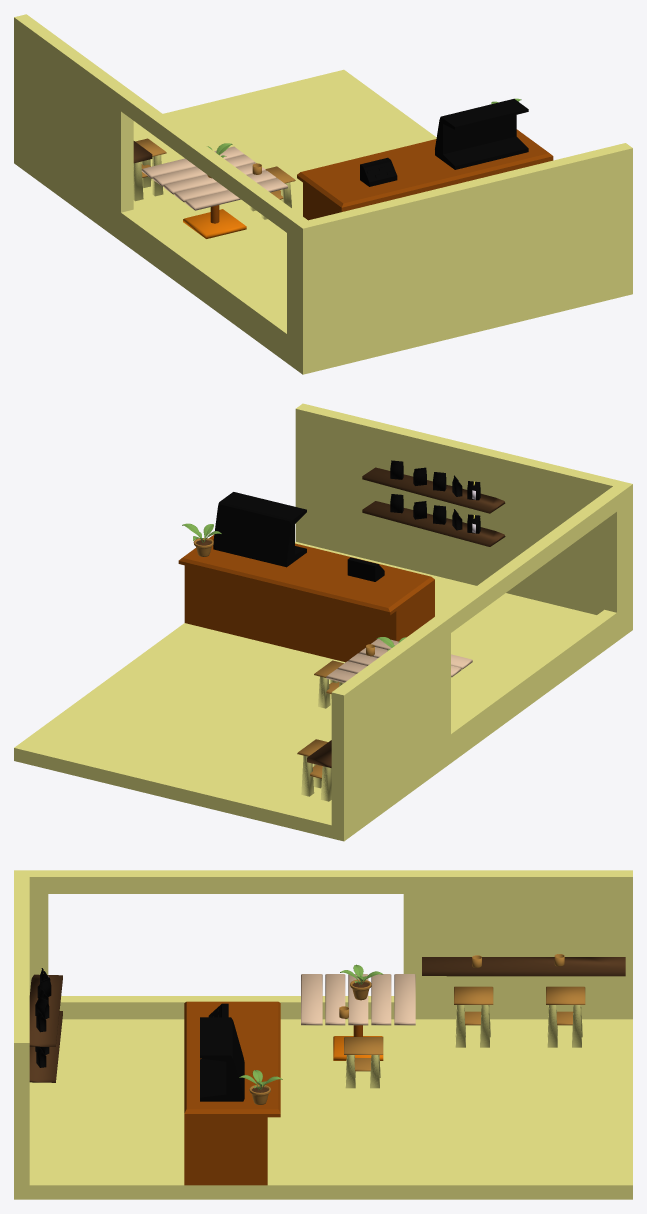
File: coffee_shop.glb
3 views of the same model, one above another, from view 1: azimuth 30°, elevation 25°; view 2: azimuth 150°, elevation 25°; view 3: azimuth 270°, elevation 25° (orthographic). The views are drawn at different scales.
Visible parts, largest first — view 1: Plane, Plane.001, Cube, Plane.002, Plane.003, cash_reg; view 2: Plane, Plane.001, Cube, shelf.001, shelf, Plane.002, cash_reg; view 3: Plane, Plane.001, Plane.002, shelf.002, Cube, shelf, shelf.001, stool_top.001, stool_top.002, stool_top.
Boxes of the visible parts, x1,y1,x2,y2 form: Plane: (14, 14, 632, 374); Plane.001: (297, 129, 553, 220); Cube: (435, 99, 528, 169); Plane.002: (141, 146, 287, 210); Plane.003: (183, 209, 246, 238); cash_reg: (360, 157, 397, 186); Plane: (14, 403, 632, 841); Plane.001: (178, 534, 434, 662); Cube: (213, 492, 306, 567); shelf.001: (362, 501, 505, 546); shelf: (362, 467, 505, 513); Plane.002: (326, 637, 472, 682); cash_reg: (347, 557, 384, 581); Plane: (14, 870, 632, 1199); Plane.001: (184, 1001, 280, 1185); Plane.002: (301, 974, 415, 1025); shelf.002: (422, 957, 625, 976); Cube: (200, 1017, 244, 1101); shelf: (29, 974, 62, 1046); shelf.001: (29, 1011, 62, 1082); stool_top.001: (454, 986, 493, 1004); stool_top.002: (546, 986, 585, 1004); stool_top: (344, 1037, 383, 1054).
Bounding box in the file's own units: 6.33 × 2.64 × 9.45.
